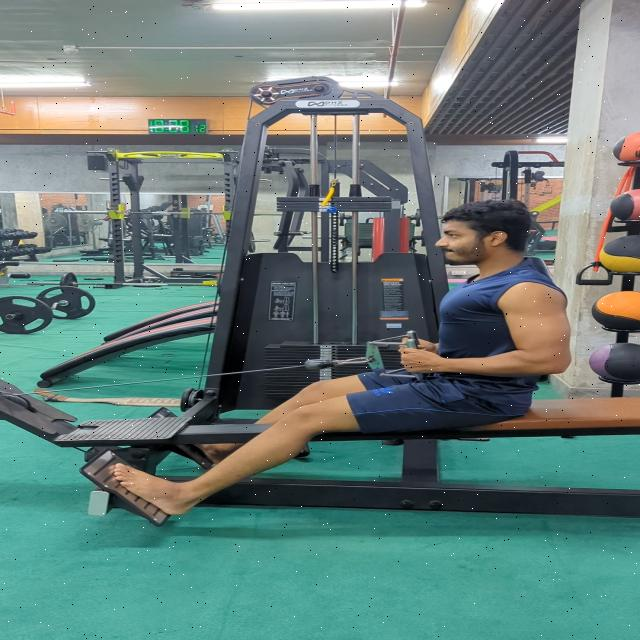Normal_RowingMachineExercise: (108, 201, 572, 514)
